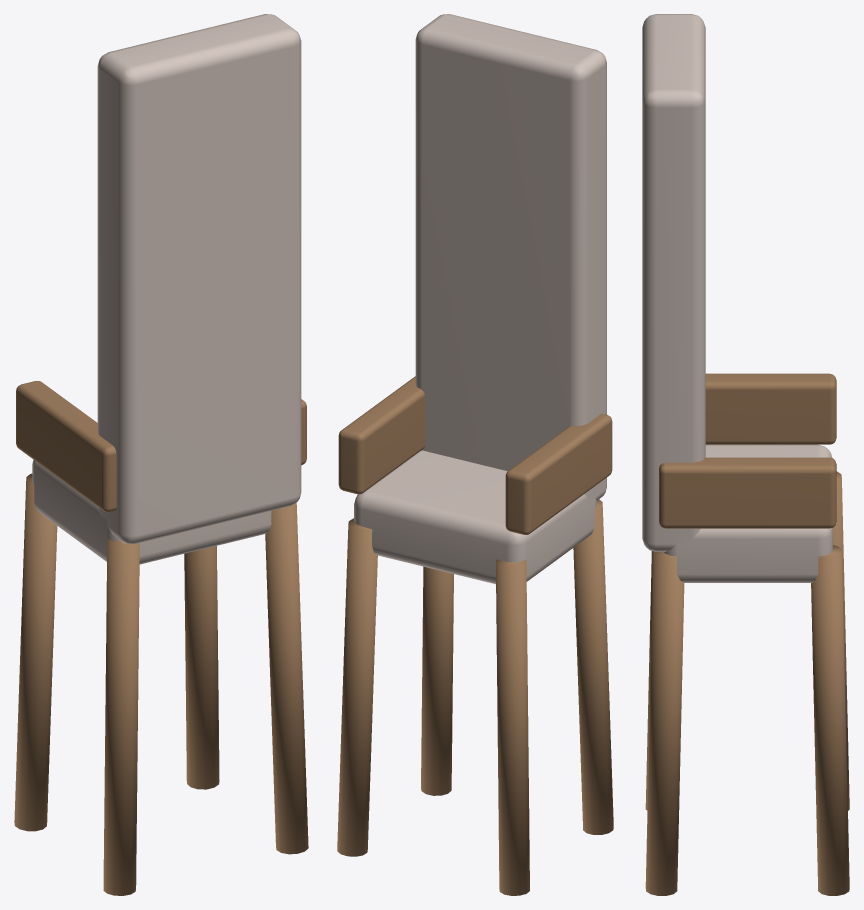
The model's file is candeeiro-de-pe-sombra.glb.
The picture shows the model from 3 angles, left to right: view 1: azimuth 30°, elevation 25°; view 2: azimuth 150°, elevation 25°; view 3: azimuth 270°, elevation 25°; orthographic projection. The views are drawn at different scales.
Parts seen in each view (by area): view 1: Encosto envolvente, Pé de madeira, Pé de madeira.002, Pé de madeira.001, Pé de madeira.003, Apoio de braço, Assento estofado; view 2: Encosto envolvente, Assento estofado, Pé de madeira.001, Pé de madeira.003, Pé de madeira, Apoio de braço, Pé de madeira.002, Apoio de braço.001; view 3: Encosto envolvente, Apoio de braço.001, Pé de madeira.003, Pé de madeira.002, Assento estofado, Apoio de braço, Pé de madeira.001, Pé de madeira.
Boxes of the visible parts, <box> form: Encosto envolvente: <box>97,14,301,544</box>; Pé de madeira: <box>103,538,139,895</box>; Pé de madeira.002: <box>265,503,308,854</box>; Pé de madeira.001: <box>14,473,57,831</box>; Pé de madeira.003: <box>184,546,219,789</box>; Apoio de braço: <box>16,381,116,512</box>; Assento estofado: <box>32,460,271,564</box>; Encosto envolvente: <box>415,14,606,501</box>; Assento estofado: <box>354,450,596,584</box>; Pé de madeira.001: <box>496,559,529,895</box>; Pé de madeira.003: <box>337,518,377,856</box>; Pé de madeira: <box>573,499,613,834</box>; Apoio de braço: <box>505,413,612,534</box>; Pé de madeira.002: <box>421,566,453,795</box>; Apoio de braço.001: <box>338,376,424,494</box>; Encosto envolvente: <box>642,14,705,551</box>; Apoio de braço.001: <box>659,457,836,528</box>; Pé de madeira.003: <box>811,545,849,895</box>; Pé de madeira.002: <box>645,551,684,895</box>; Assento estofado: <box>664,444,832,582</box>; Apoio de braço: <box>705,373,836,444</box>; Pé de madeira.001: <box>833,471,849,810</box>; Pé de madeira: <box>645,551,653,810</box>.
Bounding box in the file's own units: 0.396 × 1.53 × 0.36.
